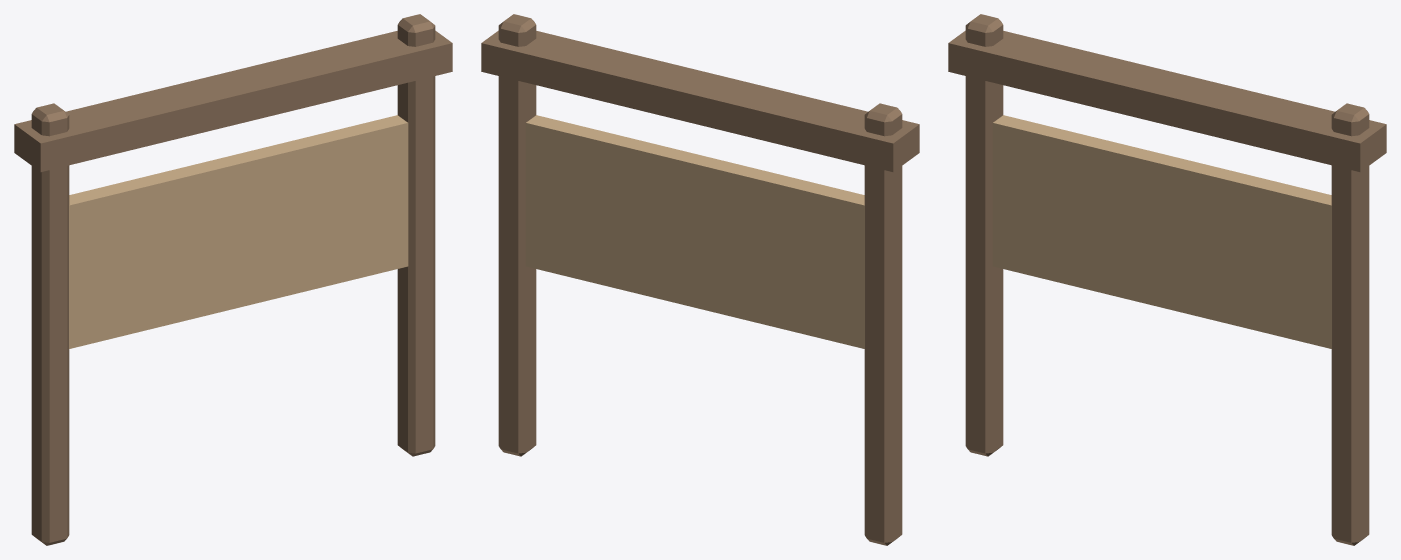
File: feudal-japan-castle-town-prayer-plaque-rack-d1d399b1__26410.glb
3 views of the same model, side by side, from view 1: azimuth 30°, elevation 25°; view 2: azimuth 150°, elevation 25°; view 3: azimuth 330°, elevation 25° (orthographic).
Visible parts, largest first — view 1: prayer-plaque-rack; view 2: prayer-plaque-rack; view 3: prayer-plaque-rack.
Part boxes in pixels (x1,y1,x2,y2): prayer-plaque-rack: (14,14,452,545); prayer-plaque-rack: (481,14,919,545); prayer-plaque-rack: (948,14,1386,545).
Size of the model in its own units: 1.8 by 1.8 by 0.2.
